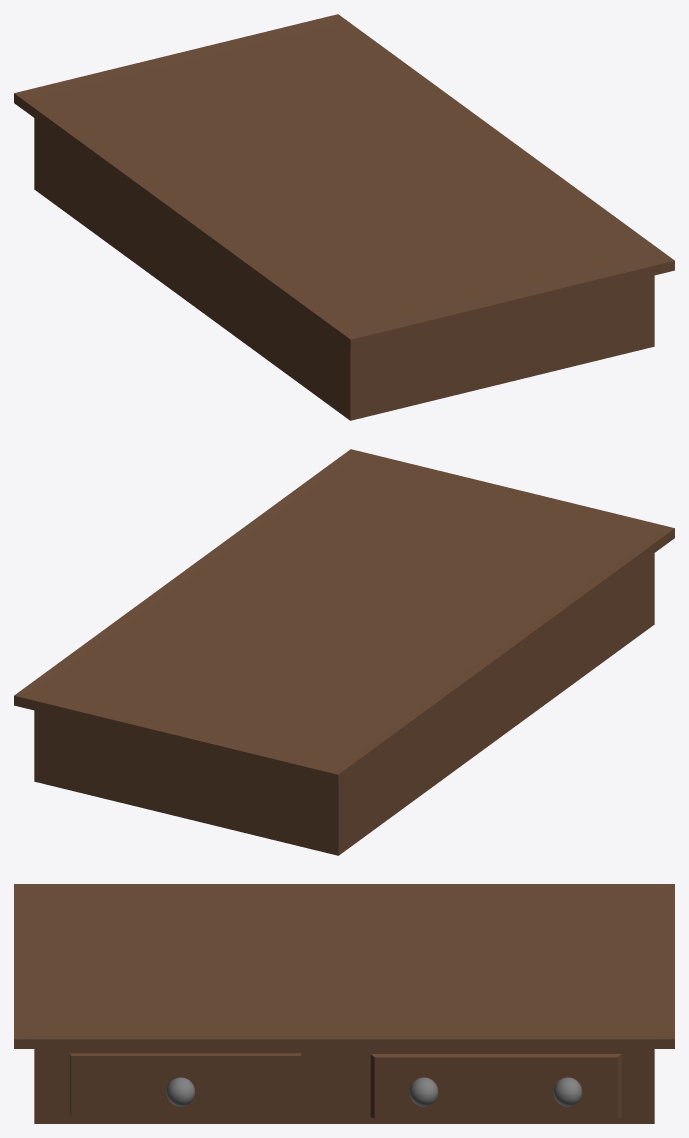
The model's file is Cupboard.fbx.
3 renders of one model, top to bottom at view 1: azimuth 30°, elevation 25°; view 2: azimuth 150°, elevation 25°; view 3: azimuth 270°, elevation 25°, orthographic.
Parts seen in each view (by area): view 1: MOD_Cupboard; view 2: MOD_Cupboard; view 3: MOD_Cupboard, Cupboard_Knob_02, Cupboard_Knob_01, Cupboard_Knob_03.
Boxes of the visible parts, x1,y1,x2,y2 form: MOD_Cupboard: [14, 14, 674, 420]; MOD_Cupboard: [14, 449, 674, 855]; MOD_Cupboard: [14, 884, 674, 1123]; Cupboard_Knob_02: [409, 1077, 438, 1106]; Cupboard_Knob_01: [166, 1077, 195, 1106]; Cupboard_Knob_03: [553, 1077, 582, 1106].
Bounding box in the file's own units: 9.48 × 2.4 × 16.11.
